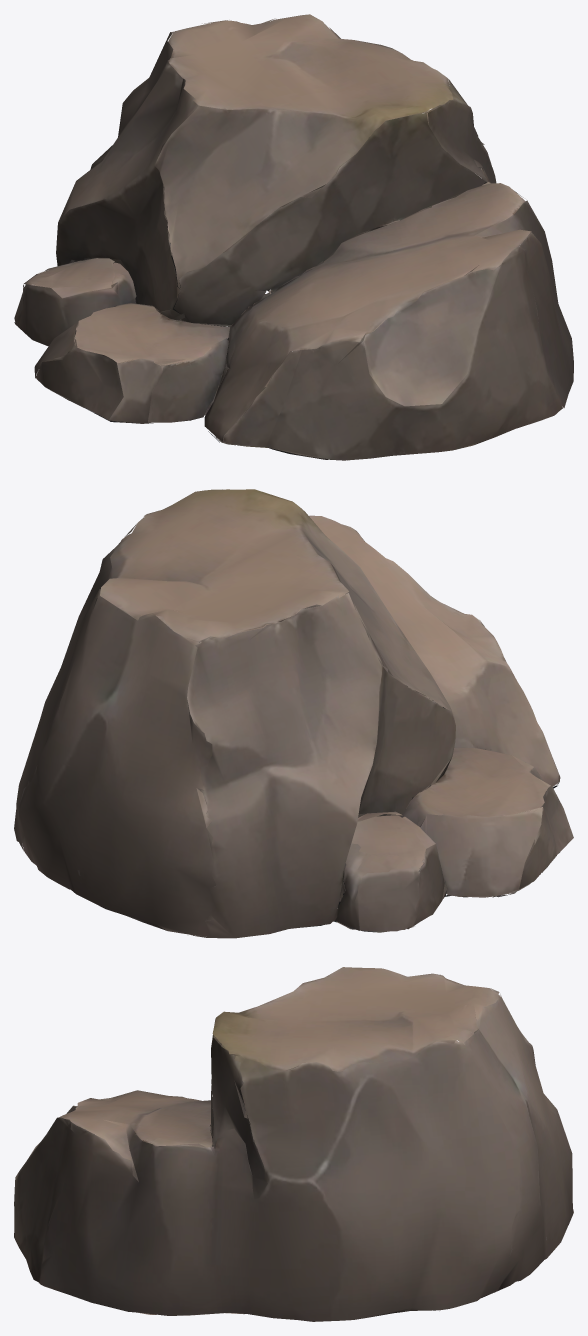
Rendered from rock_cluster.glb.
The picture shows the model from 3 angles, top to bottom: view 1: azimuth 30°, elevation 25°; view 2: azimuth 150°, elevation 25°; view 3: azimuth 270°, elevation 25°; orthographic projection. The views are drawn at different scales.
Visible parts, largest first — view 1: Prop_rock_cluster; view 2: Prop_rock_cluster; view 3: Prop_rock_cluster.
Boxes of the visible parts, box(x1,y1,x2,y2) form: Prop_rock_cluster: box(14, 14, 573, 460); Prop_rock_cluster: box(14, 489, 573, 938); Prop_rock_cluster: box(14, 967, 573, 1321).
Bounding box in the file's own units: 2.45 × 1.31 × 2.82.
1 material, 1 textured.
